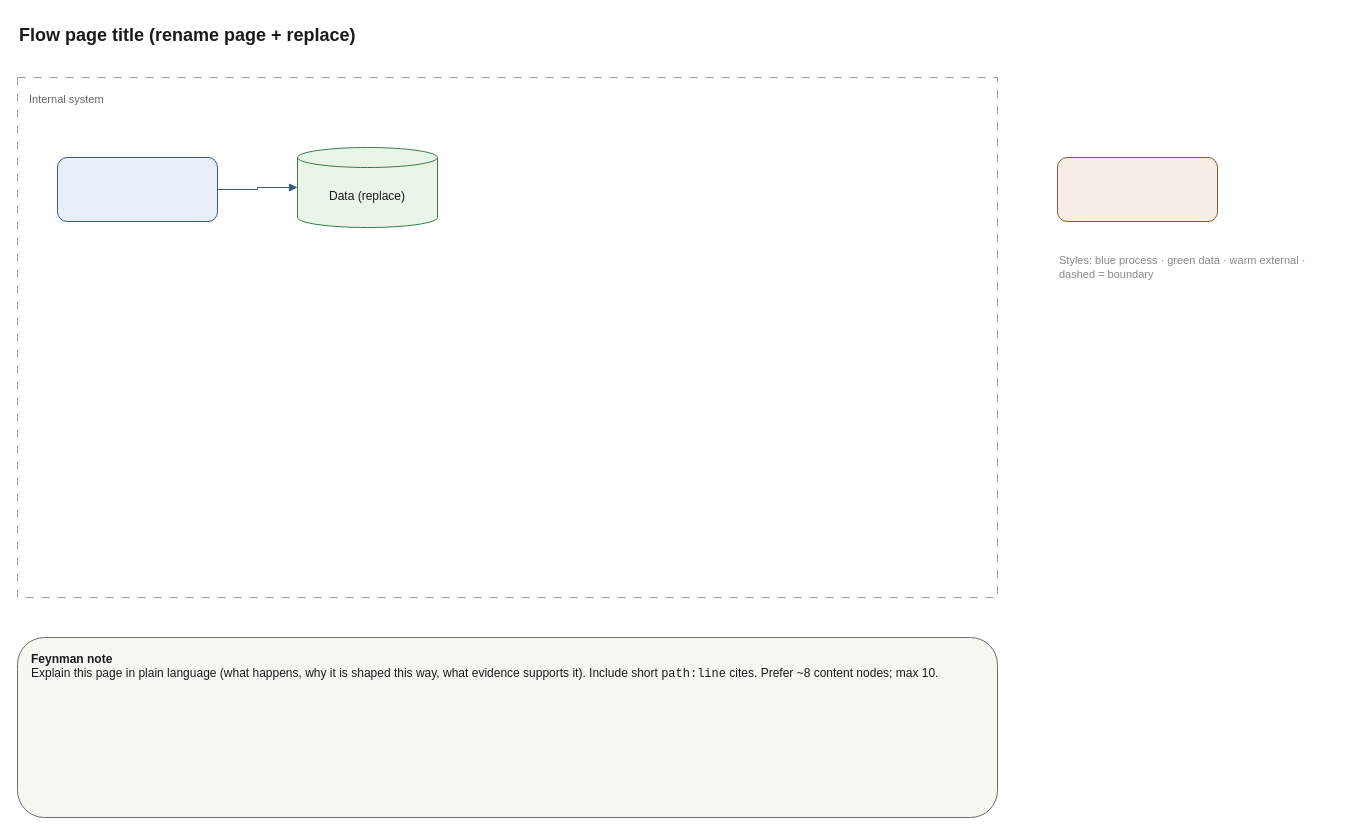
Image size: 1355x835. Some labels were removed from this diagram. The shapes that lost their labels are listed below. From the top down, each one's box as (x1, y1, x2, y2) in pixels, then its label:
(56, 156, 218, 222): Process (replace)
(1056, 156, 1218, 222): External (replace)
